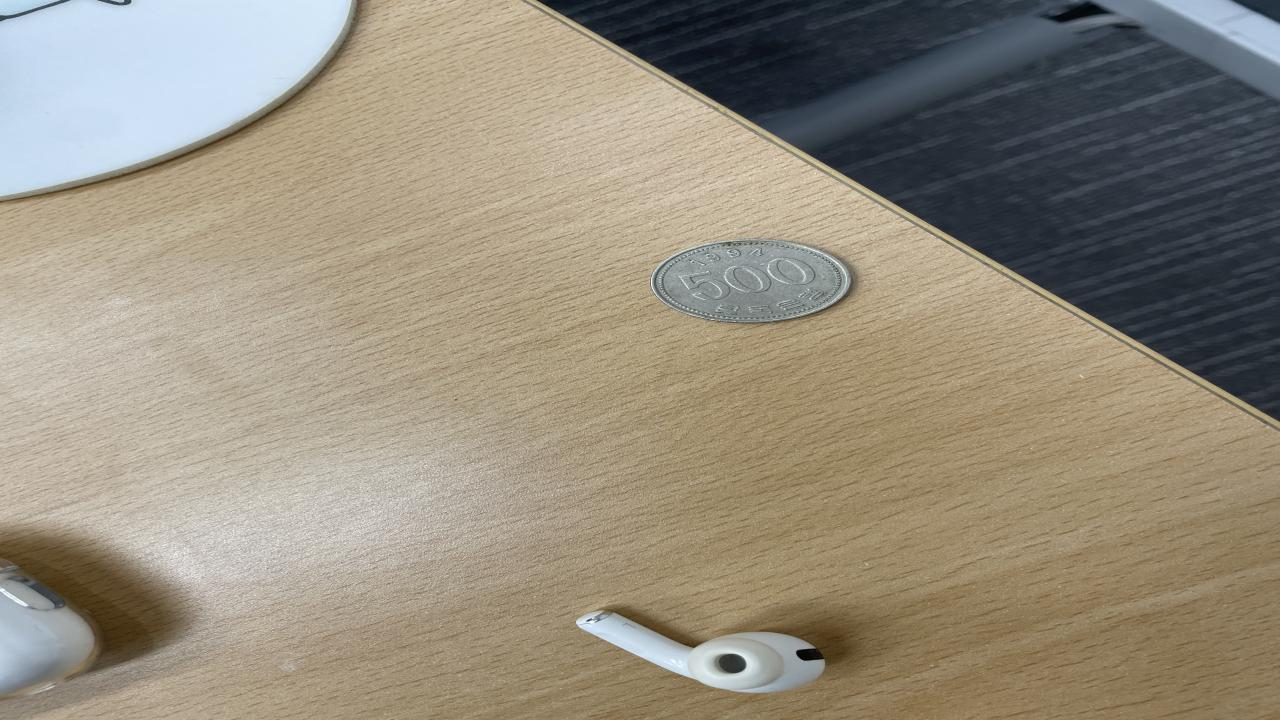coin: (644, 237, 858, 327)
